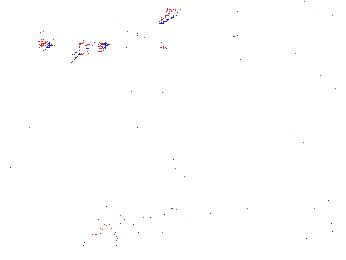glassfish: (134, 122, 185, 193), (117, 203, 178, 231)
redtail glassfish: (157, 30, 238, 57), (133, 17, 209, 43), (64, 39, 141, 64), (158, 3, 244, 24), (34, 35, 111, 57)
